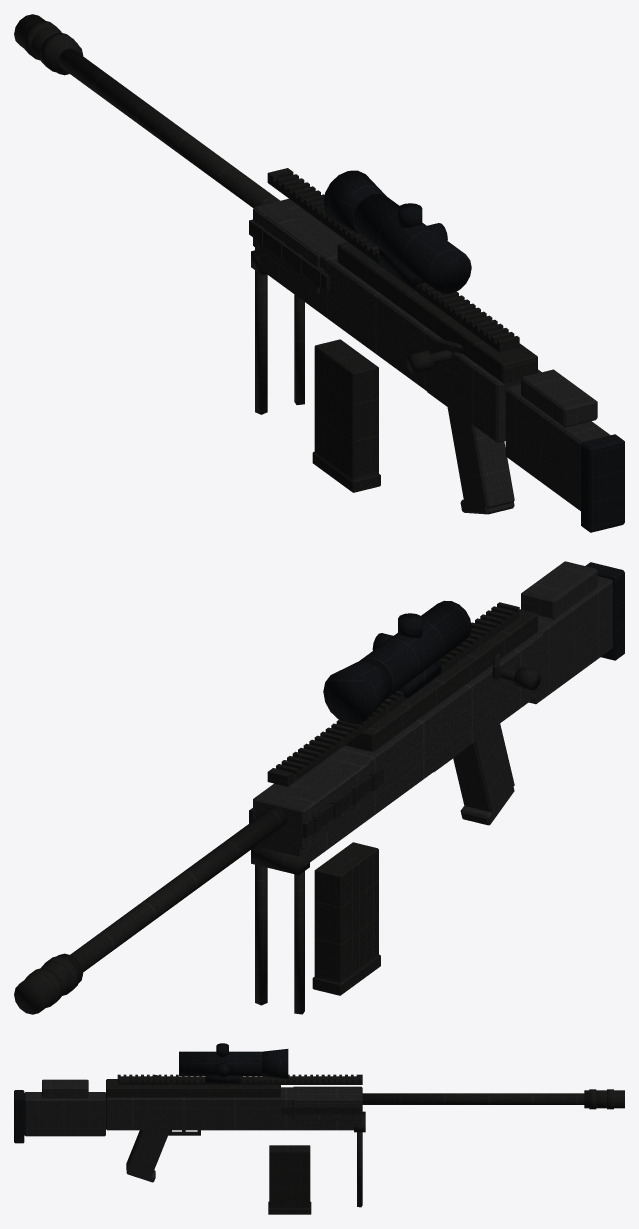
Rendered from m14-ebr.glb.
3 renders of one model, top to bottom at view 1: azimuth 30°, elevation 25°; view 2: azimuth 150°, elevation 25°; view 3: azimuth 270°, elevation 25°, orthographic. The views are drawn at different scales.
Parts seen in each view (by area): view 1: ebr_chassis, ebr_stock, ebr_scope, ebr_magazine, ebr_receiver, ebr_barrel, ebr_top_rail, ebr_grip, ebr_buttpad, ebr_bipod, ebr_brake, ebr_side_rails (+1 smaller); view 2: ebr_chassis, ebr_scope, ebr_magazine, ebr_stock, ebr_barrel, ebr_receiver, ebr_top_rail, ebr_bipod, ebr_grip, ebr_brake, ebr_side_rails, ebr_buttpad (+1 smaller); view 3: ebr_chassis, ebr_stock, ebr_scope, ebr_magazine, ebr_barrel, ebr_receiver, ebr_top_rail, ebr_grip, ebr_brake, ebr_side_rails, ebr_bipod, ebr_buttpad.
Part boxes in pixels (box(x1,y1,x2,y2)): ebr_chassis: box(253, 198, 541, 442); ebr_stock: box(505, 369, 610, 510); ebr_scope: box(323, 170, 471, 293); ebr_magazine: box(312, 339, 380, 492); ebr_receiver: box(337, 241, 537, 406); ebr_barrel: box(58, 48, 279, 207); ebr_top_rail: box(267, 168, 519, 352); ebr_grip: box(447, 406, 514, 514); ebr_buttpad: box(581, 434, 624, 532); ebr_bipod: box(251, 250, 304, 414); ebr_brake: box(14, 14, 83, 75); ebr_side_rails: box(249, 219, 330, 290); ebr_chassis: box(253, 632, 543, 866); ebr_scope: box(323, 600, 471, 724); ebr_magazine: box(312, 842, 380, 995); ebr_stock: box(521, 561, 612, 704); ebr_barrel: box(70, 806, 287, 972); ebr_receiver: box(345, 609, 537, 751); ebr_top_rail: box(267, 602, 519, 786); ebr_bipod: box(251, 846, 309, 1014); ebr_grip: box(453, 723, 514, 825); ebr_brake: box(14, 953, 83, 1014); ebr_side_rails: box(249, 767, 383, 838); ebr_buttpad: box(585, 562, 624, 660); ebr_chassis: box(106, 1086, 362, 1130); ebr_stock: box(24, 1079, 105, 1136); ebr_scope: box(179, 1043, 288, 1083); ebr_magazine: box(268, 1145, 311, 1214); ebr_barrel: box(362, 1093, 584, 1104); ebr_receiver: box(106, 1079, 280, 1097); ebr_top_rail: box(117, 1074, 362, 1084); ebr_grip: box(126, 1130, 169, 1182); ebr_brake: box(584, 1089, 624, 1109); ebr_side_rails: box(281, 1105, 362, 1115); ebr_bipod: box(354, 1111, 365, 1207); ebr_buttpad: box(14, 1090, 24, 1143).
Bounding box in the file's own units: 0.098 × 0.313 × 1.05.
Materials: 3 (3 with a texture image).
